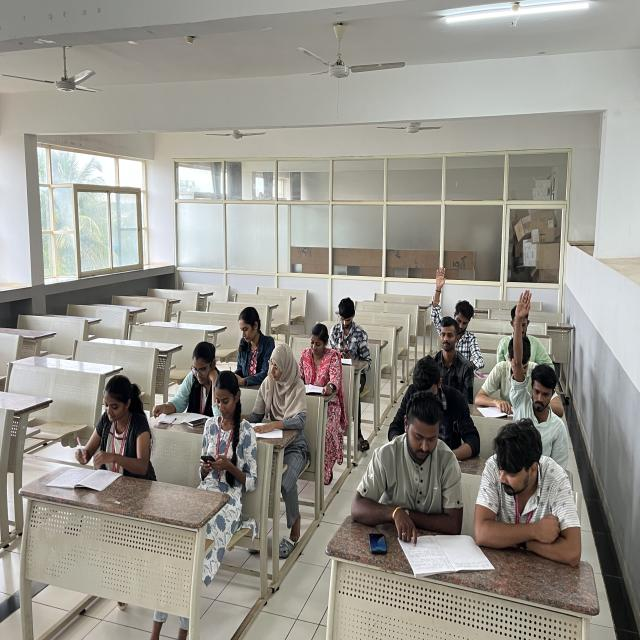Hand Rising: (507, 284, 569, 442), (425, 265, 478, 348)
Reading: (353, 398, 466, 544), (154, 341, 234, 437), (294, 324, 343, 394), (327, 299, 374, 363)
Using Phone: (198, 369, 260, 478)
Writing: (51, 370, 155, 487), (233, 343, 310, 436), (222, 304, 274, 391)
